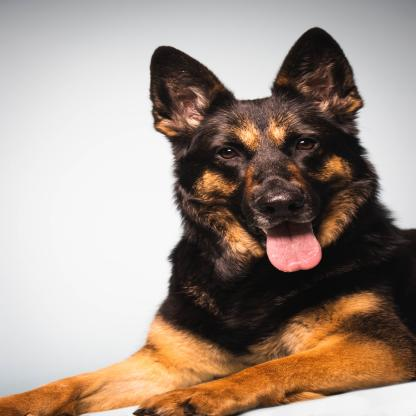german shepherd: (4, 37, 416, 416)
